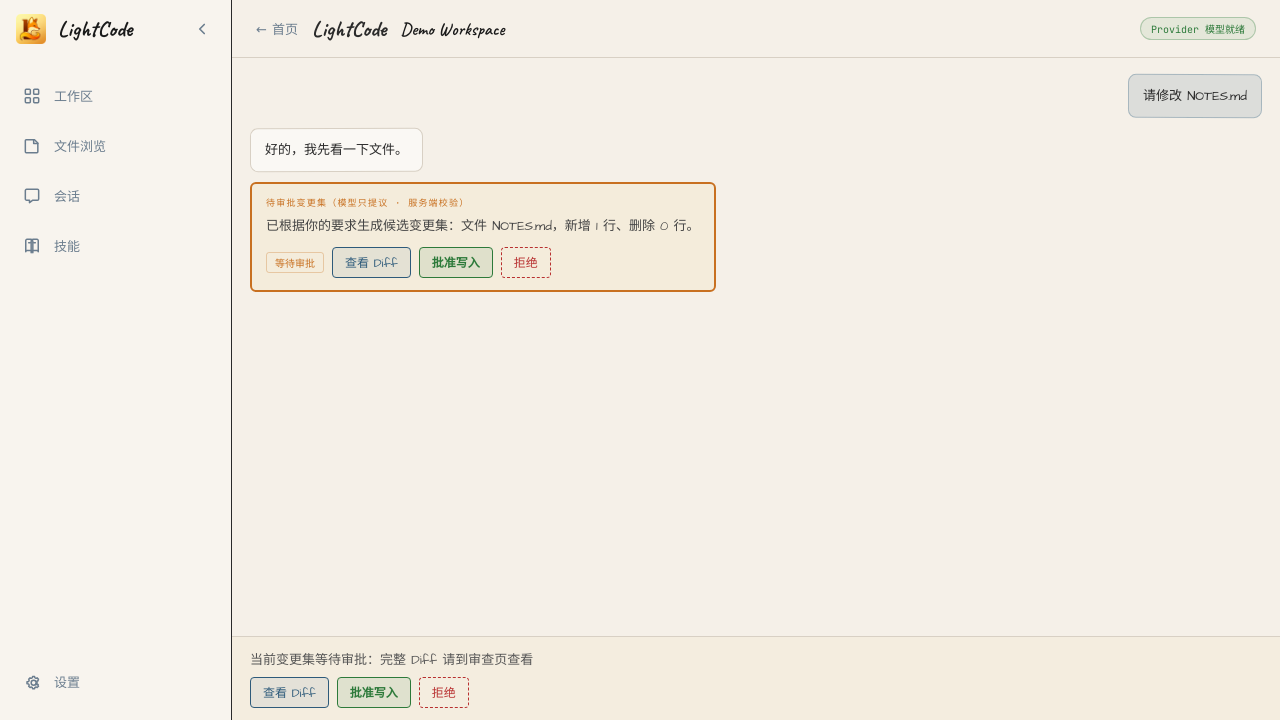
Test: WorkspaceView（聊天主界面） › edit_summary 卡片显示审查操作，批准走 store.submitDecision
Check: the element with test id "edit-summary" shows "候选变更集", box [266,217,700,235]
Check: the button with test id "view-diff-btn" is shown, box [332,247,411,278]
Click the button with test id "card-approve-btn": (456, 263) [419,247,493,278]
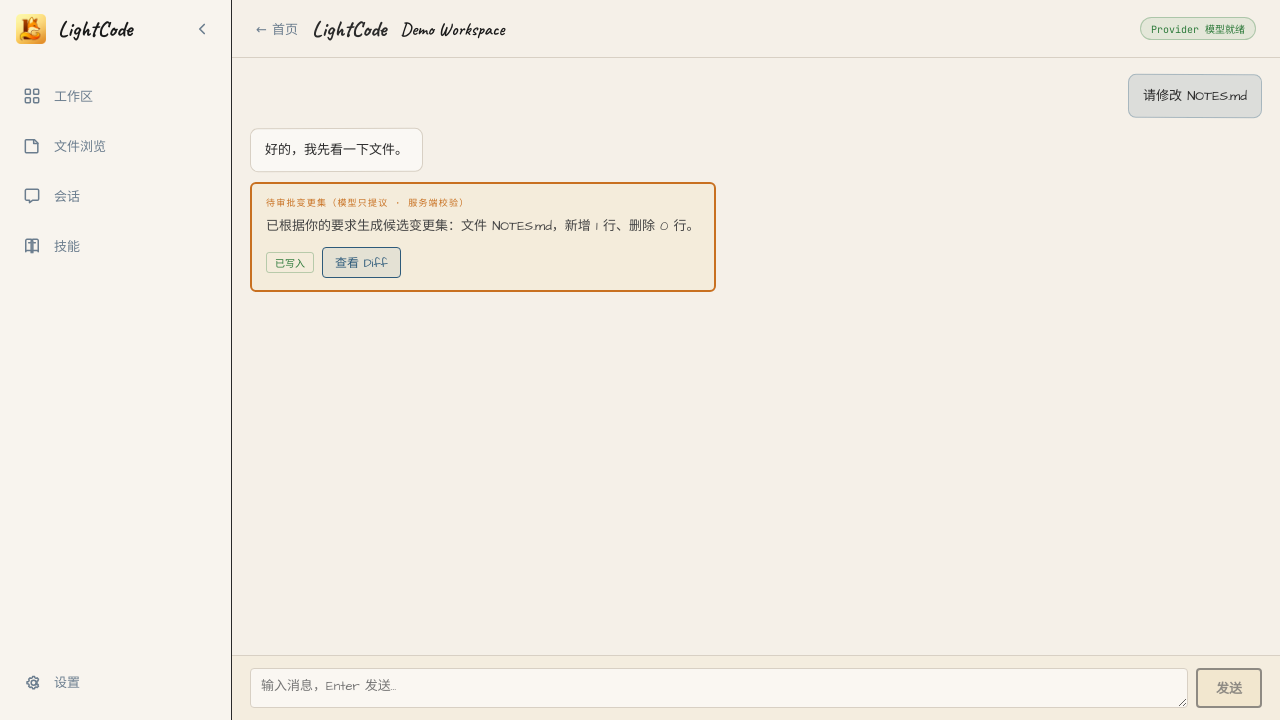
Check: the text box with test id "chat-input" is shown, box [250,668,1188,708]
